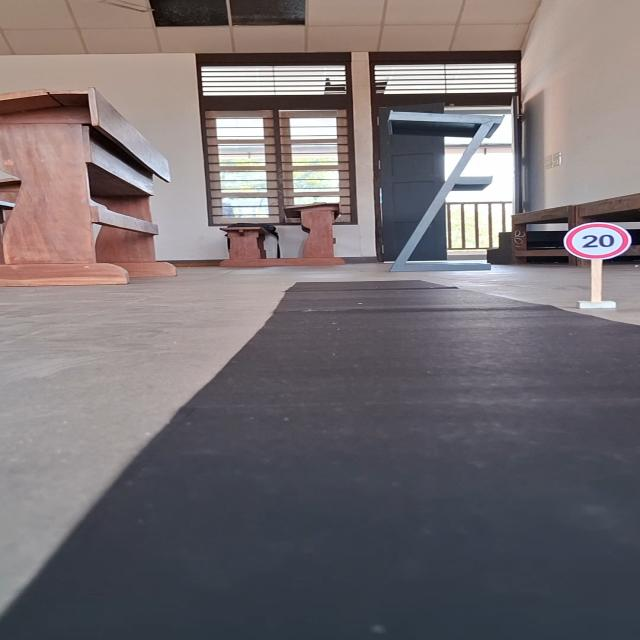Speed20: (560, 221, 636, 265)
